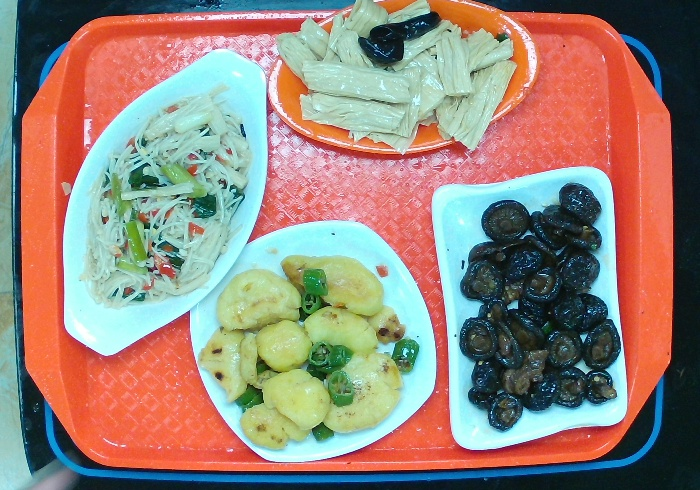RJxy-Ju_Huang_Tuo_Yuan: (266, 1, 542, 155)
RJxy-Si_Fang_Ao_Bian_Wan: (429, 163, 629, 452)
RJxy-Si_Fang_Die: (188, 218, 438, 464)
RJxy-Yu_Pan: (61, 47, 270, 356)
